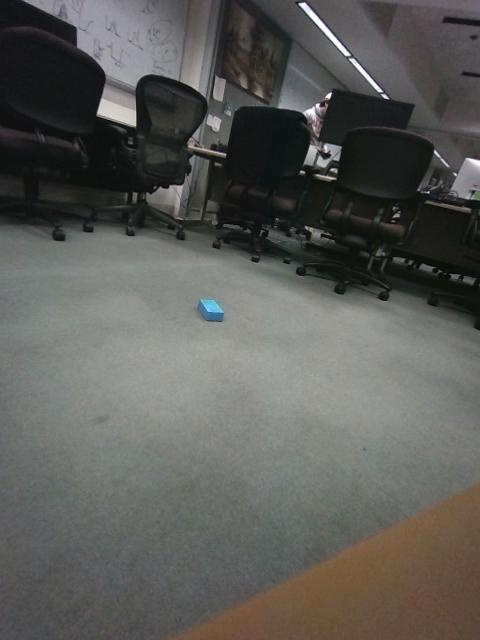block: (27, 286, 96, 319)
